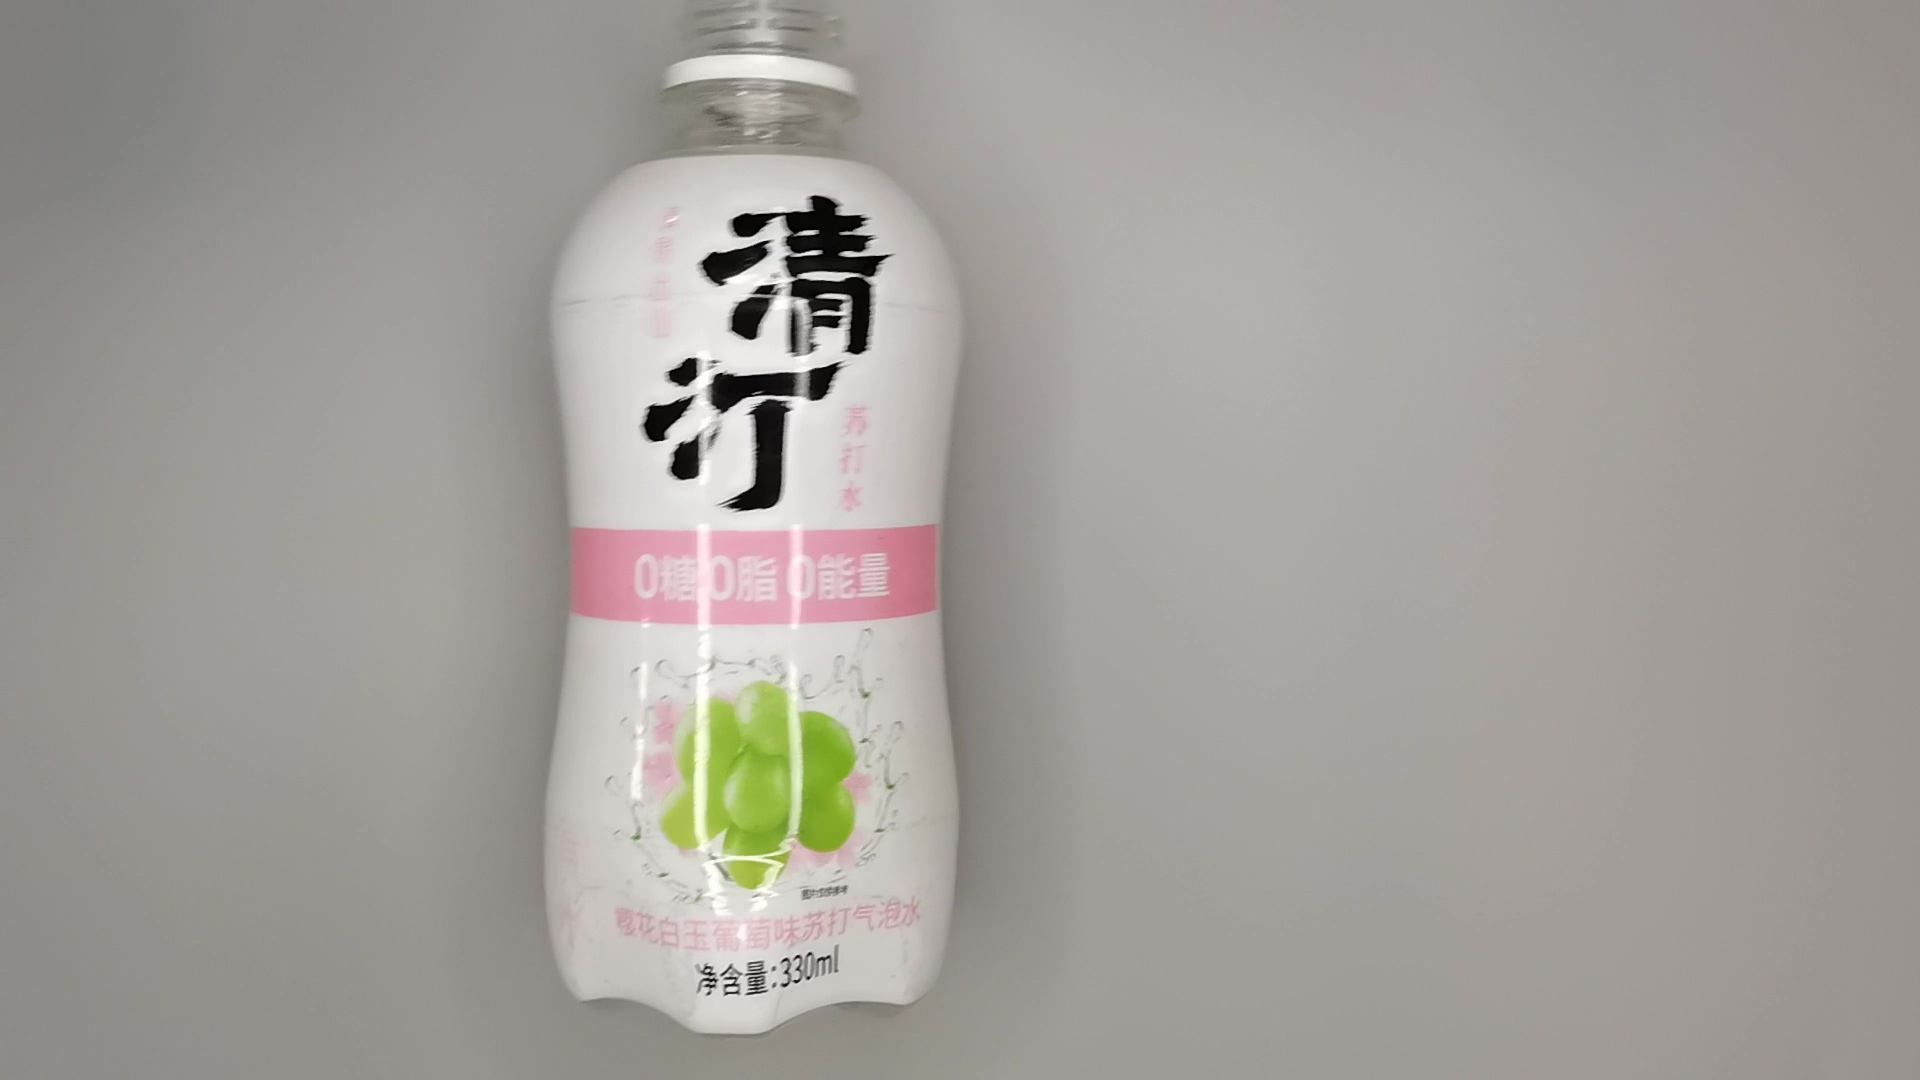bottle: (538, 1, 969, 1044)
